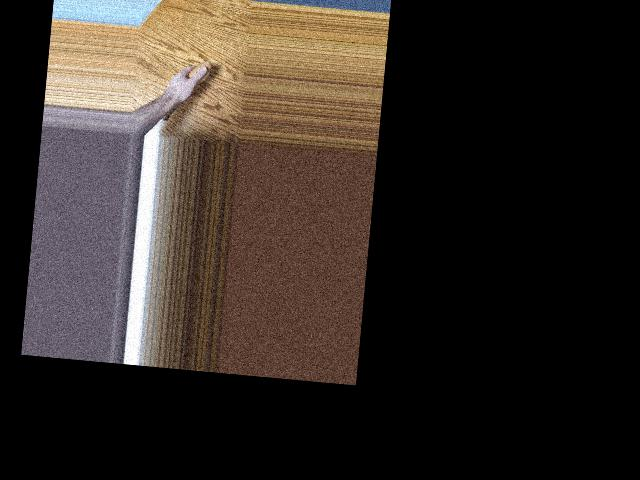sweet_potato: (161, 57, 212, 126)
